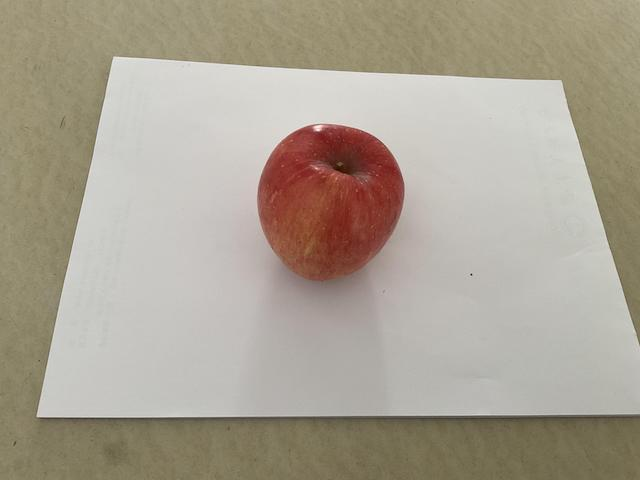apple: (256, 120, 407, 286)
